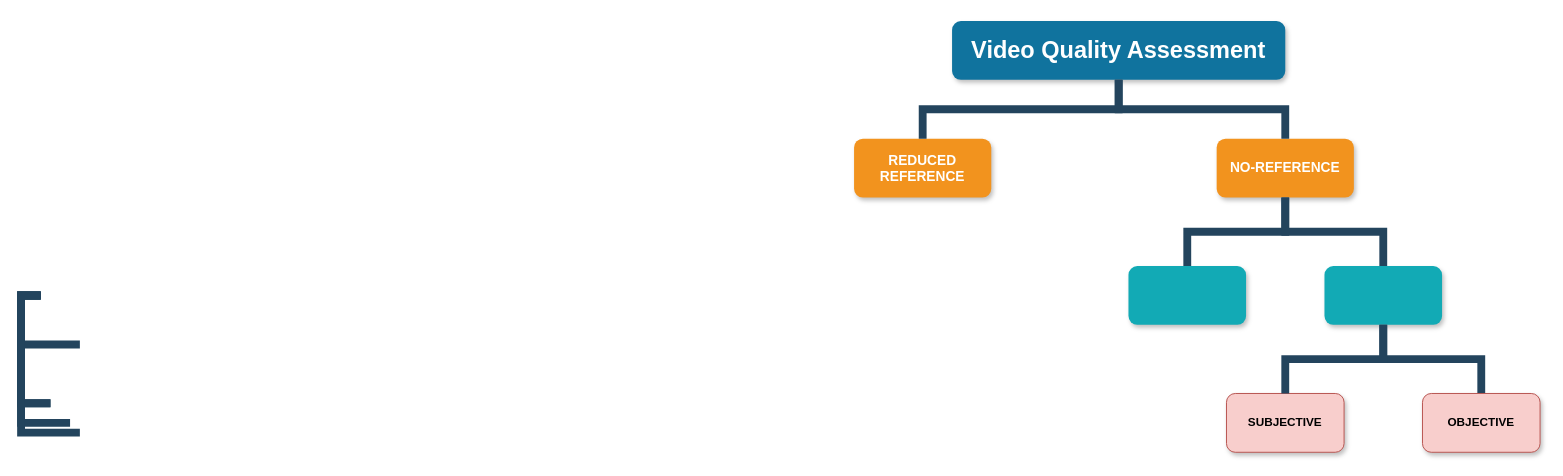
The diagram is 1563 pixels wide and 476 high, and some of its shapes have lost their labels. The centre of each missing label's shape, as x and y in pixels:
"DATA-DRIVEN" belongs at point (1383, 296).
"KNOWLEDGE-BASED" belongs at point (1187, 296).
